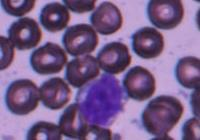L: (76, 72, 125, 128)
